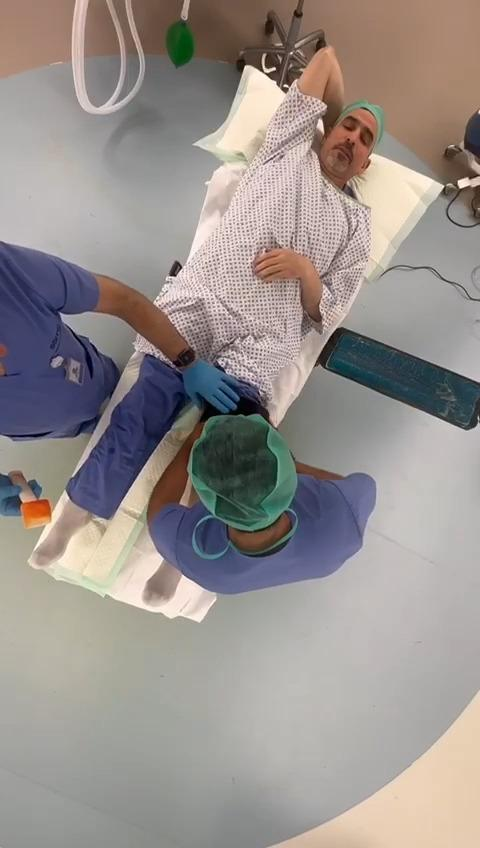patient: (30, 48, 383, 568)
prepstick: (8, 470, 51, 528)
